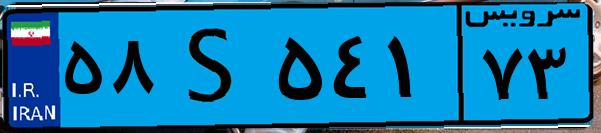1: (385, 28, 445, 110)
3: (525, 38, 570, 115)
4: (330, 28, 385, 110)
5: (270, 28, 330, 110), (57, 26, 110, 100)
7: (475, 38, 525, 113)
8: (110, 28, 158, 98)
S: (158, 12, 270, 120)
